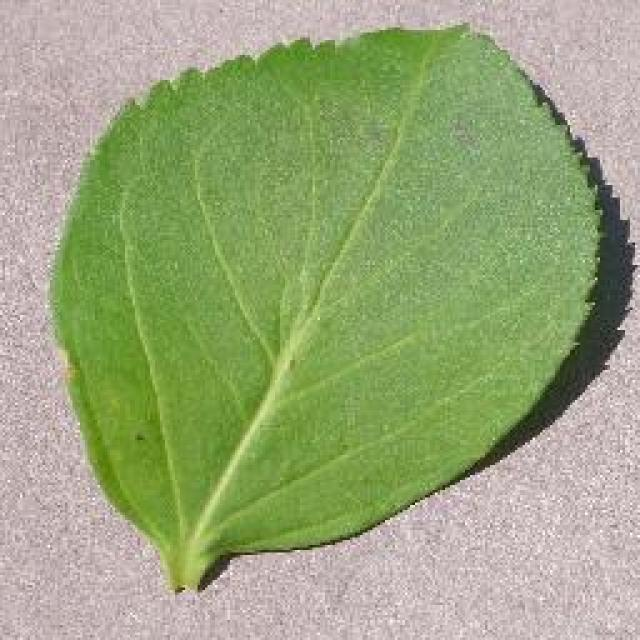Cherry___healthy: (38, 8, 612, 612)
